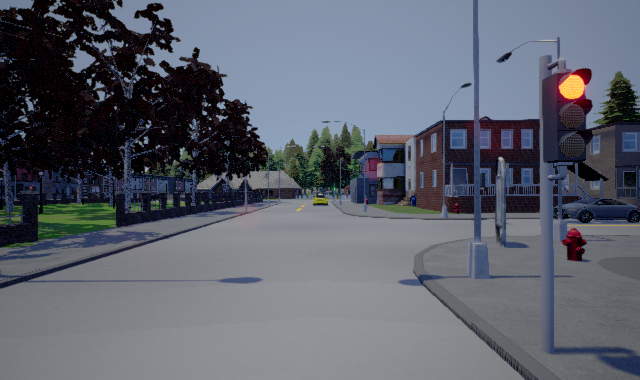traffic_light: (543, 67, 594, 163)
vehicle: (552, 198, 640, 223), (311, 192, 328, 205)
